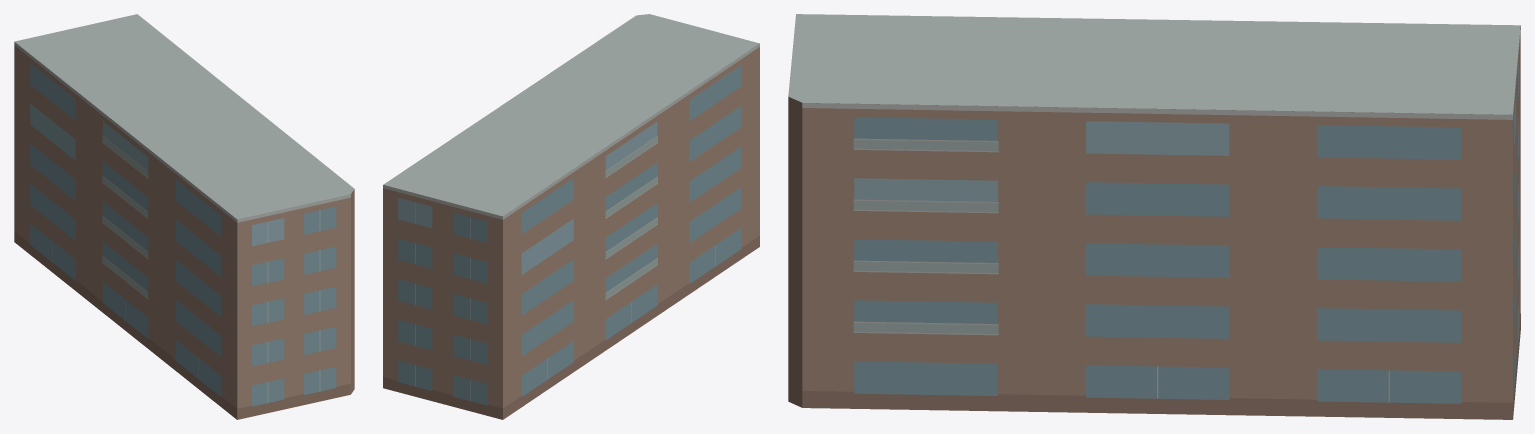
File: survey-upis-32654048.glb
3 views of the same model, side by side, from view 1: azimuth 30°, elevation 25°; view 2: azimuth 150°, elevation 25°; view 3: azimuth 270°, elevation 25° (orthographic). The views are drawn at different scales.
Parts seen in each view (by area): view 1: survey-upis-32654048.tmp; view 2: survey-upis-32654048.tmp; view 3: survey-upis-32654048.tmp.
Boxes of the visible parts, x1,y1,x2,y2 form: survey-upis-32654048.tmp: (14, 14, 354, 419); survey-upis-32654048.tmp: (383, 14, 759, 419); survey-upis-32654048.tmp: (788, 14, 1520, 419).
Bounding box in the file's own units: 10.32 × 14.55 × 31.67.
